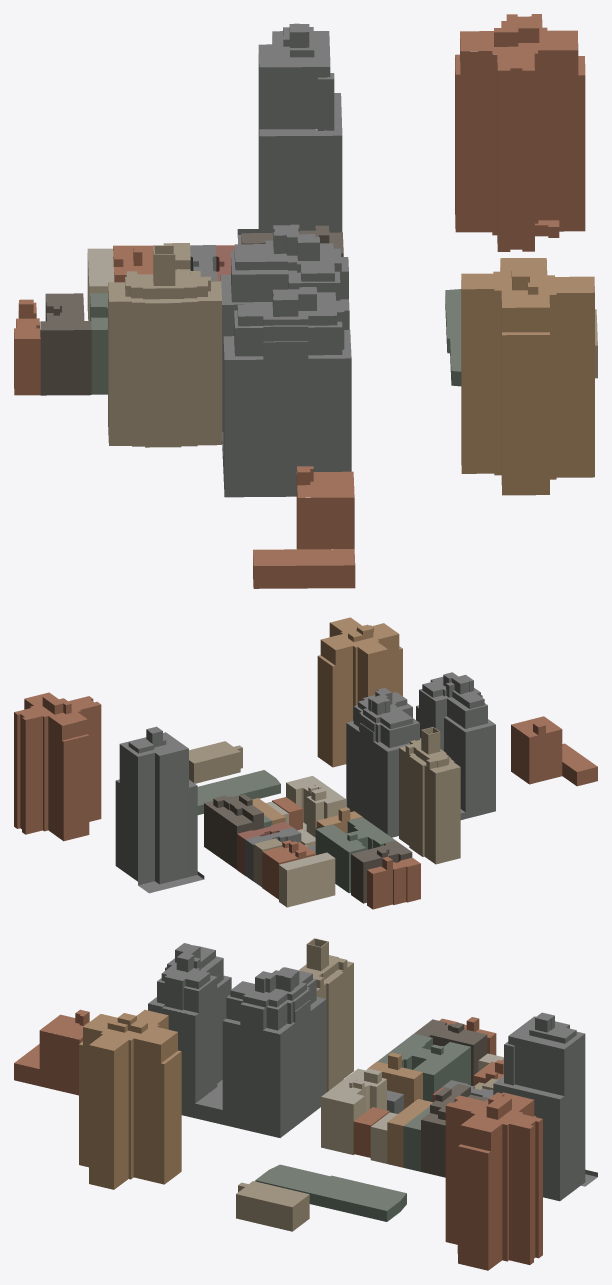
Rendered from tile--2_-10.glb.
3 views of the same model, one above another, from view 1: azimuth 30°, elevation 25°; view 2: azimuth 150°, elevation 25°; view 3: azimuth 270°, elevation 25° (orthographic). The views are drawn at different scales.
Visible parts, largest first — view 1: wall, roof; view 2: wall, roof; view 3: wall, roof.
Part boxes in pixels (x1,y1,x2,y2): wall: [14, 24, 597, 588]; roof: [14, 14, 597, 565]; wall: [14, 623, 597, 909]; roof: [14, 617, 597, 893]; wall: [14, 939, 597, 1270]; roof: [14, 938, 597, 1210].
Bounding box in the file's own units: 214 × 76.22 × 232.
